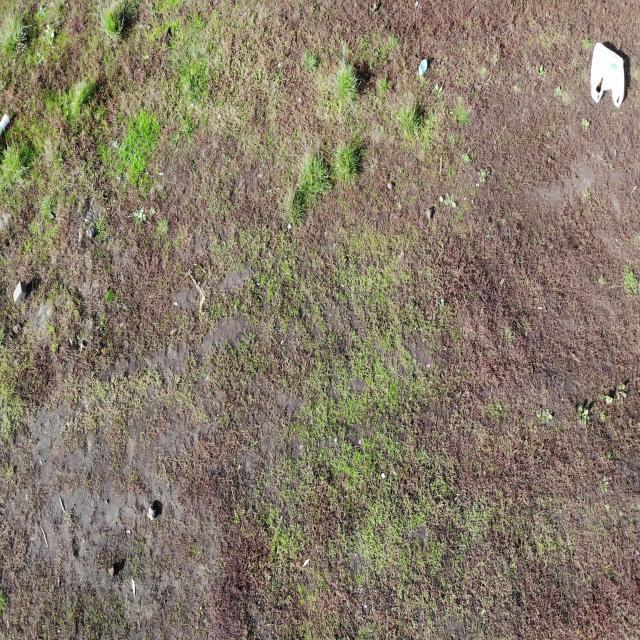rubbish: (589, 41, 625, 108), (0, 110, 12, 136), (418, 58, 428, 79)
